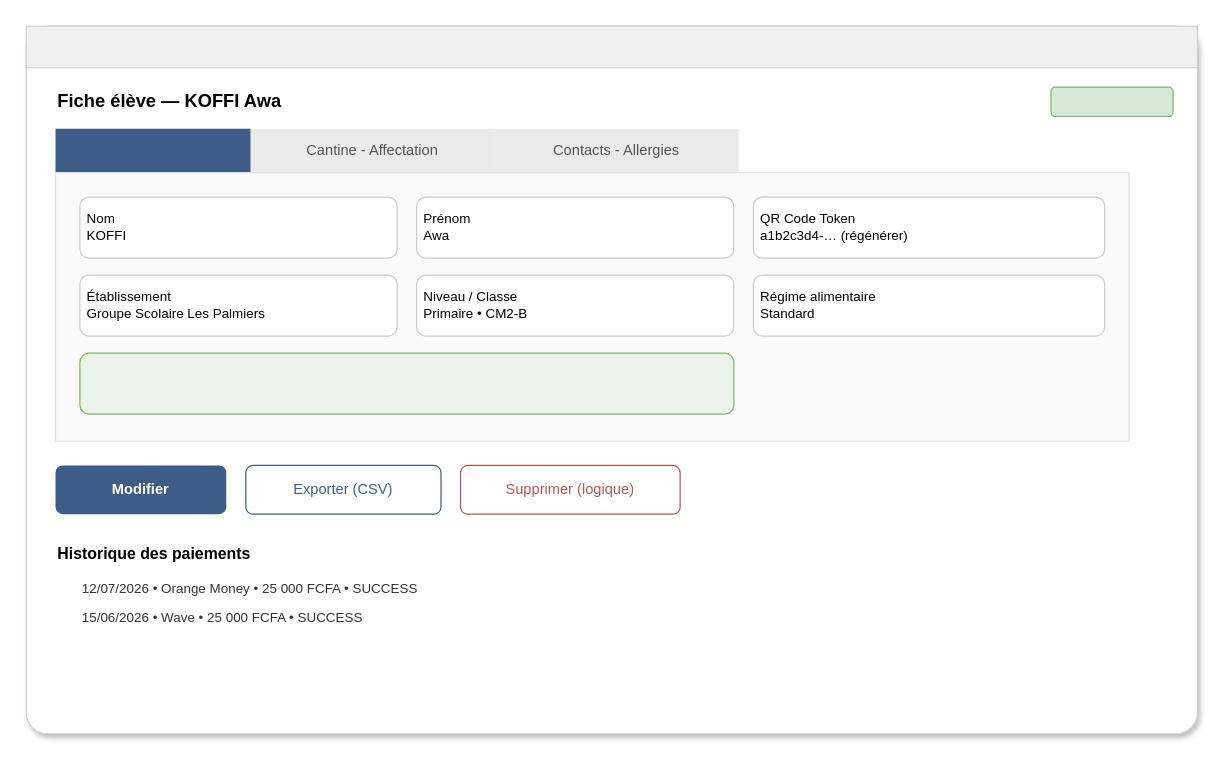
This 1226x764 diagram has some shape labels left out. The shapes that lost their labels are listed below. From the top down, each one's centre as x and y in pixels, then its label:
At pixel 611 46: "cantine-connect.klem.app / admin / eleves / 4471".
At pixel 1111 101: "AUTORISÉ".
At pixel 152 150: "Général".
At pixel 406 383: "Statut d'accès AUTORISÉ (paiement à jour)".
